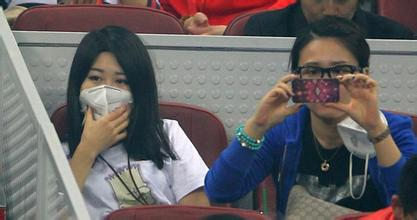NONE: (301, 60, 361, 121)
OK: (83, 68, 141, 126)
